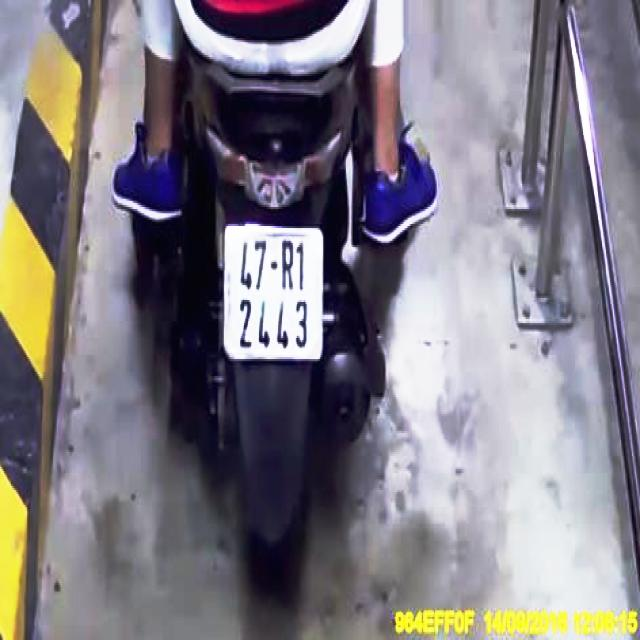license_plate: (223, 223, 324, 360)
